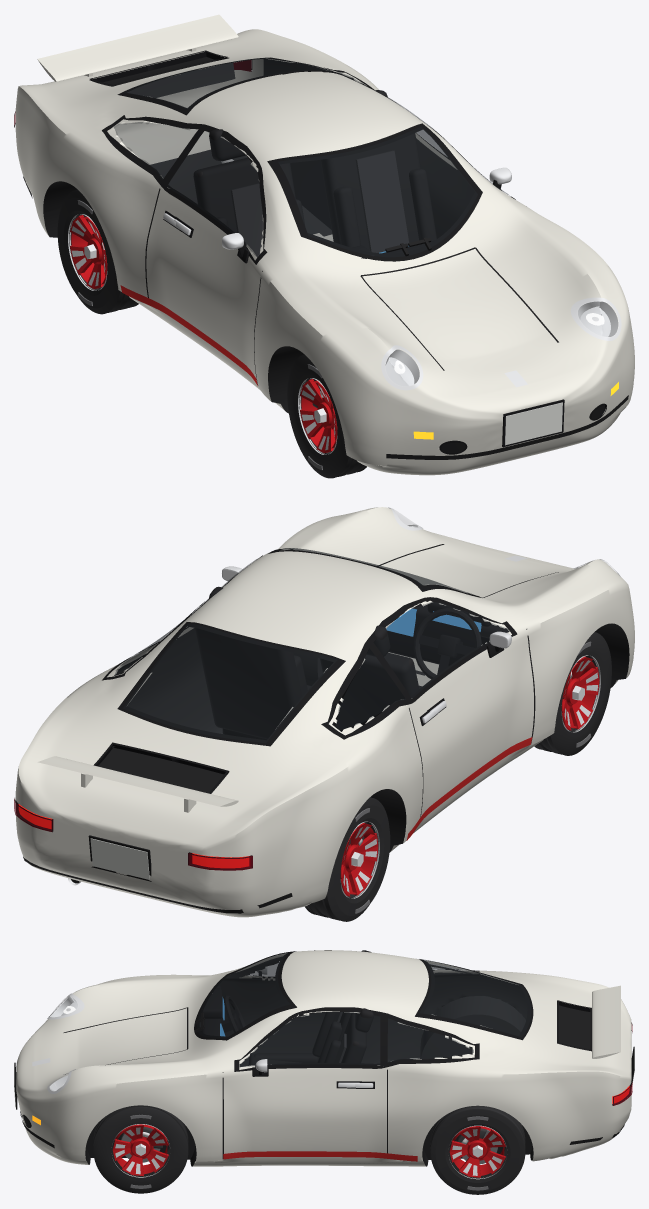
The picture shows the model from 3 angles, top to bottom: view 1: azimuth 30°, elevation 25°; view 2: azimuth 150°, elevation 25°; view 3: azimuth 270°, elevation 25°; orthographic projection. The views are drawn at different scales.
Parts seen in each view (by area): view 1: Body, Wheel_RR, Wheel_FR; view 2: Body, Wheel_RR, Wheel_FR; view 3: Body, Wheel_RL, Wheel_FL.
Part boxes in pixels (box(x1,y1,x2,y2)): Body: box(14, 14, 634, 475); Wheel_RR: box(57, 190, 138, 314); Wheel_FR: box(287, 354, 366, 478); Body: box(14, 507, 634, 917); Wheel_RR: box(305, 797, 390, 921); Wheel_FR: box(534, 632, 611, 755); Body: box(14, 950, 634, 1166); Wheel_RL: box(430, 1105, 525, 1194); Wheel_FL: box(93, 1105, 188, 1193).
Size of the model in its own units: 1.74 by 1.3 by 4.19.
